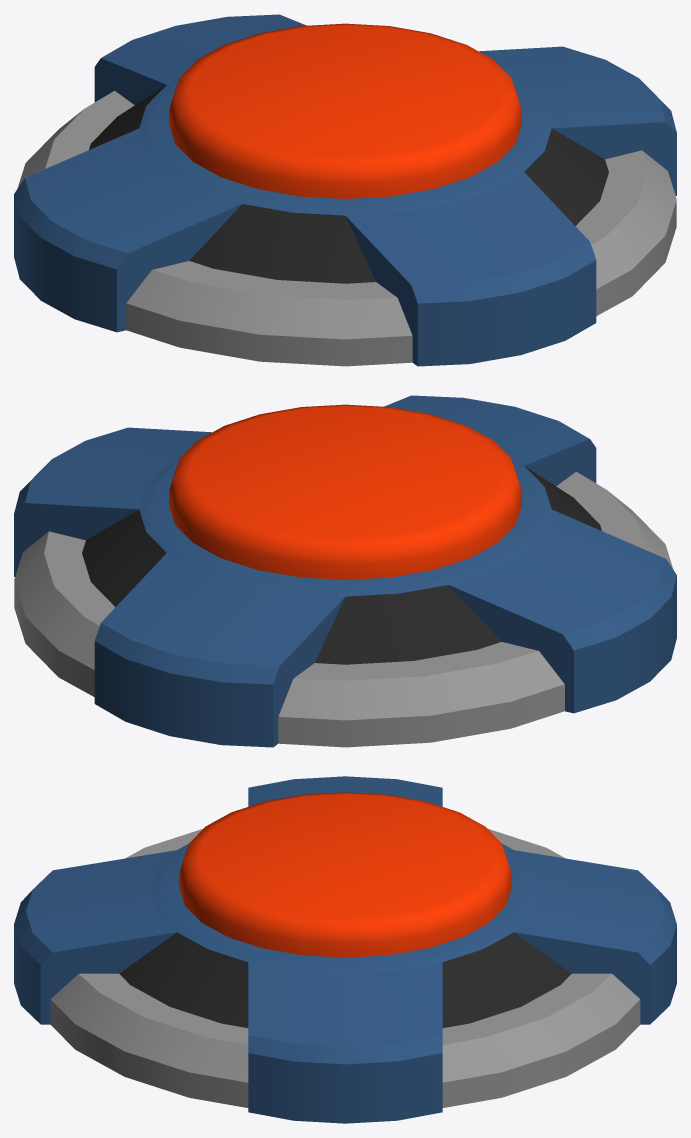
The model's file is Landmine.FBX.
3 views of the same model, one above another, from view 1: azimuth 30°, elevation 25°; view 2: azimuth 150°, elevation 25°; view 3: azimuth 270°, elevation 25° (orthographic). The views are drawn at different scales.
Visible parts, largest first — view 1: Landmine, Button001; view 2: Landmine, Button001; view 3: Landmine, Button001.
Boxes of the visible parts, x1,y1,x2,y2 form: Landmine: (14,14,676,366); Button001: (169,23,521,198); Landmine: (14,395,676,747); Button001: (169,404,521,579); Landmine: (14,776,676,1123); Button001: (179,792,511,957).
Bounding box in the file's own units: 159 × 35.22 × 159.
